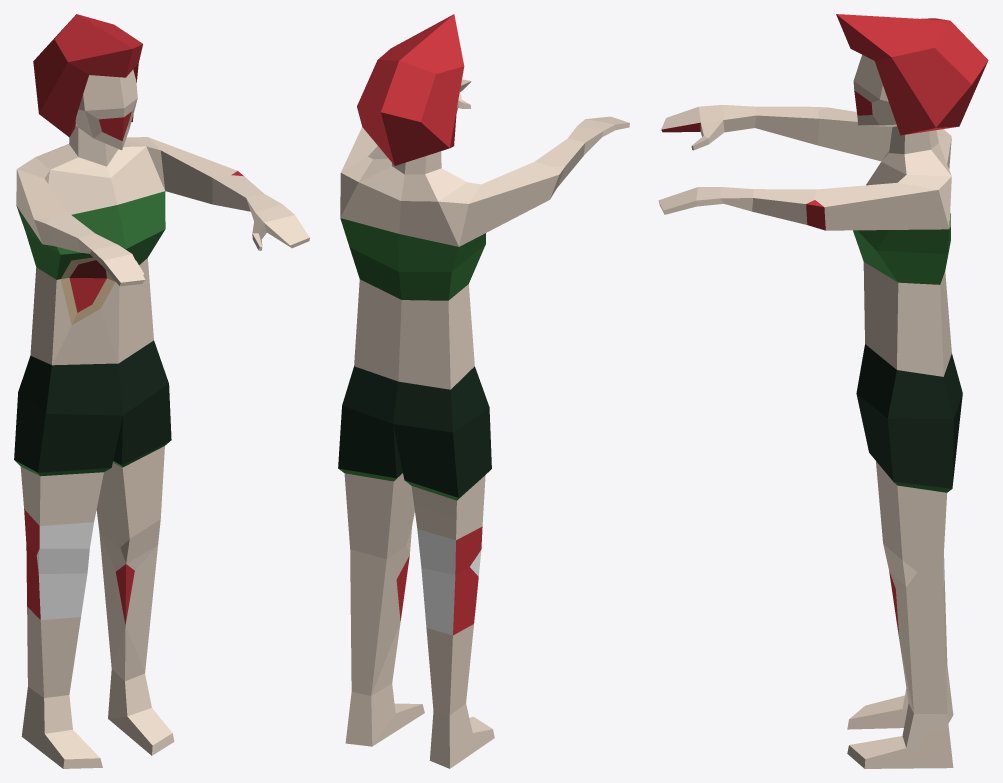
Rendered from woman-zombie.glb.
The picture shows the model from 3 angles, left to right: view 1: azimuth 30°, elevation 25°; view 2: azimuth 150°, elevation 25°; view 3: azimuth 270°, elevation 25°; orthographic projection. The views are drawn at different scales.
Parts seen in each view (by area): view 1: woman-zombie; view 2: woman-zombie; view 3: woman-zombie.
Part boxes in pixels (x1,y1,x2,y2): woman-zombie: [14, 14, 309, 768]; woman-zombie: [338, 14, 629, 768]; woman-zombie: [658, 14, 988, 768].
Bounding box in the file's own units: 0.5394 × 1.83 × 0.7509.
Materials: 1 (1 with a texture image).
